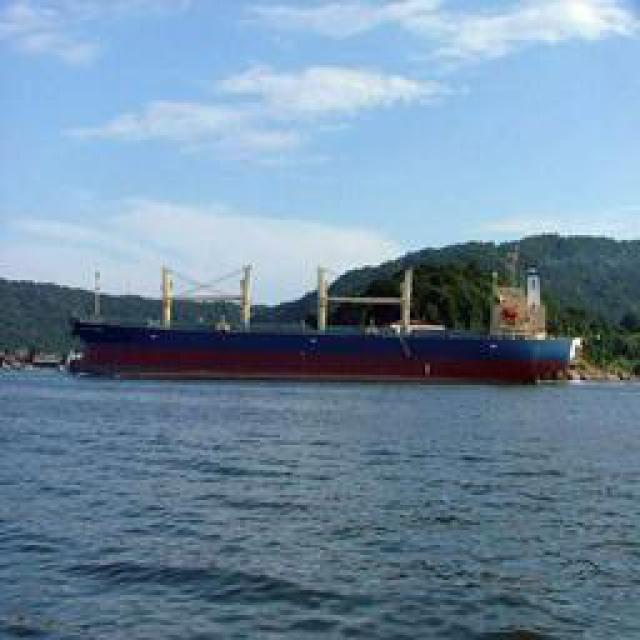Ship: (75, 314, 588, 387)
